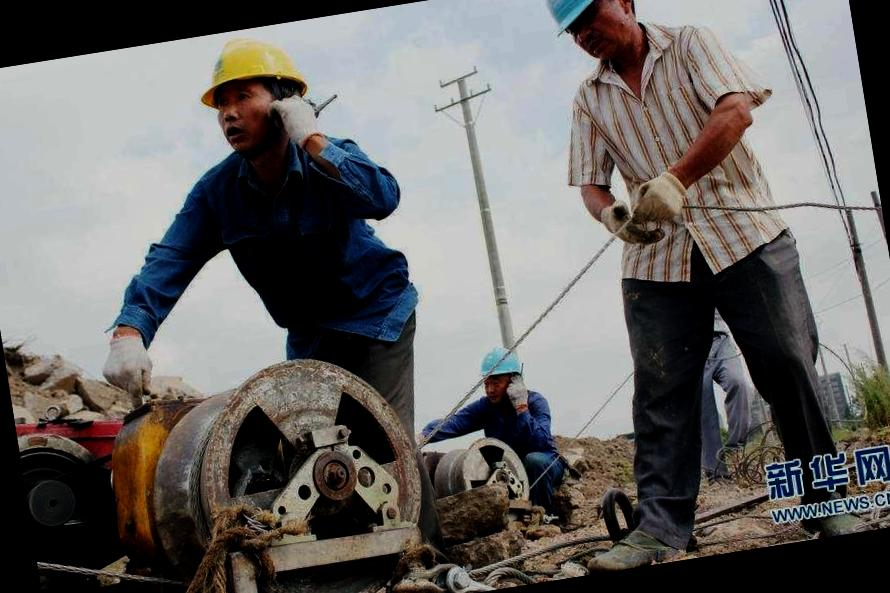helmet: (187, 29, 310, 108), (543, 0, 648, 32)
no_vest: (548, 19, 794, 297), (212, 126, 418, 361)
person: (537, 0, 851, 567), (173, 14, 469, 593)
